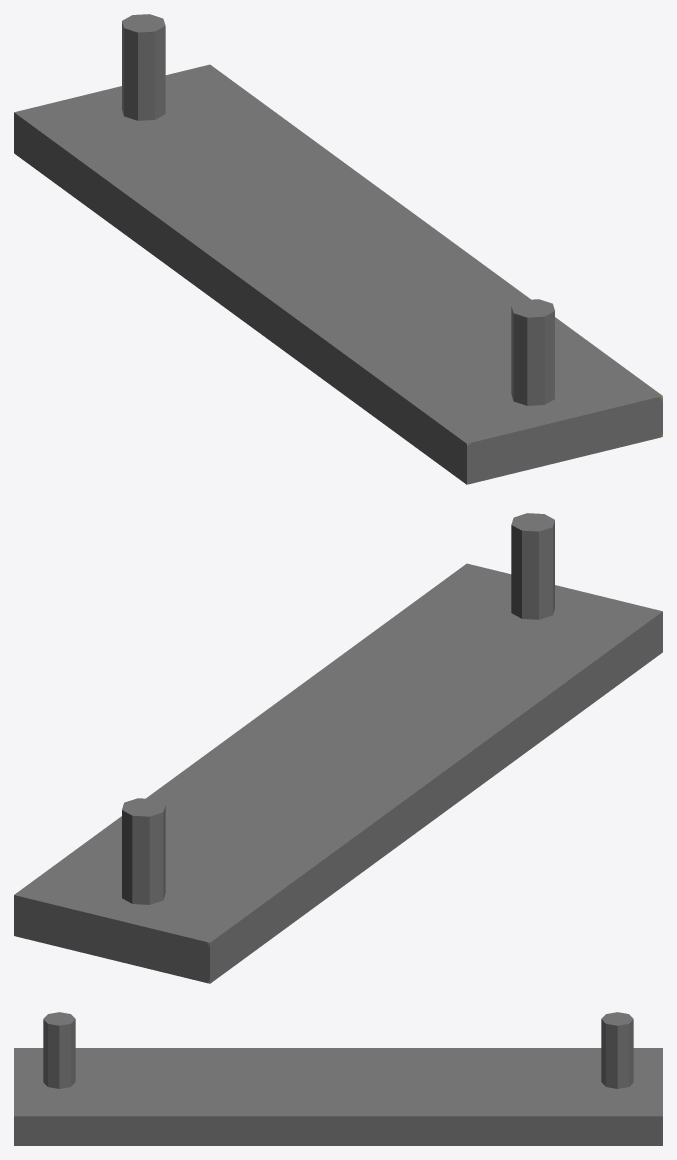
The model's file is Ceiling Light.fbx.
The picture shows the model from 3 angles, top to bottom: view 1: azimuth 30°, elevation 25°; view 2: azimuth 150°, elevation 25°; view 3: azimuth 270°, elevation 25°; orthographic projection. The views are drawn at different scales.
Visible parts, largest first — view 1: Cylinder; view 2: Cylinder; view 3: Cylinder.
Boxes of the visible parts, <box> form: Cylinder: <box>14,14,662,484</box>; Cylinder: <box>14,513,662,983</box>; Cylinder: <box>14,1012,662,1145</box>.
Bounding box in the file's own units: 100 × 63 × 400.
1 material, 1 textured.
